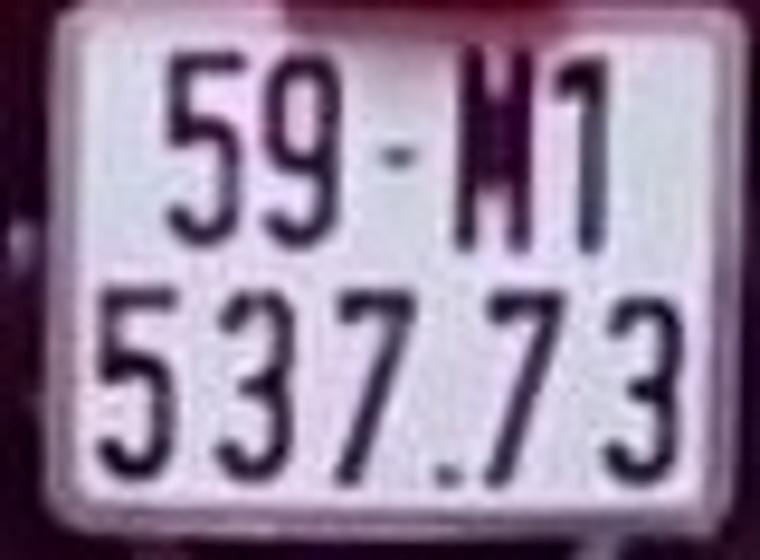-: (372, 145, 421, 176)
.: (429, 455, 466, 492)
1: (552, 49, 618, 256)
3: (212, 284, 307, 487), (596, 296, 689, 497)
5: (94, 274, 188, 488), (161, 45, 251, 250)
7: (330, 281, 429, 487), (487, 289, 576, 493)
9: (261, 40, 345, 251)
M: (452, 46, 535, 258)
